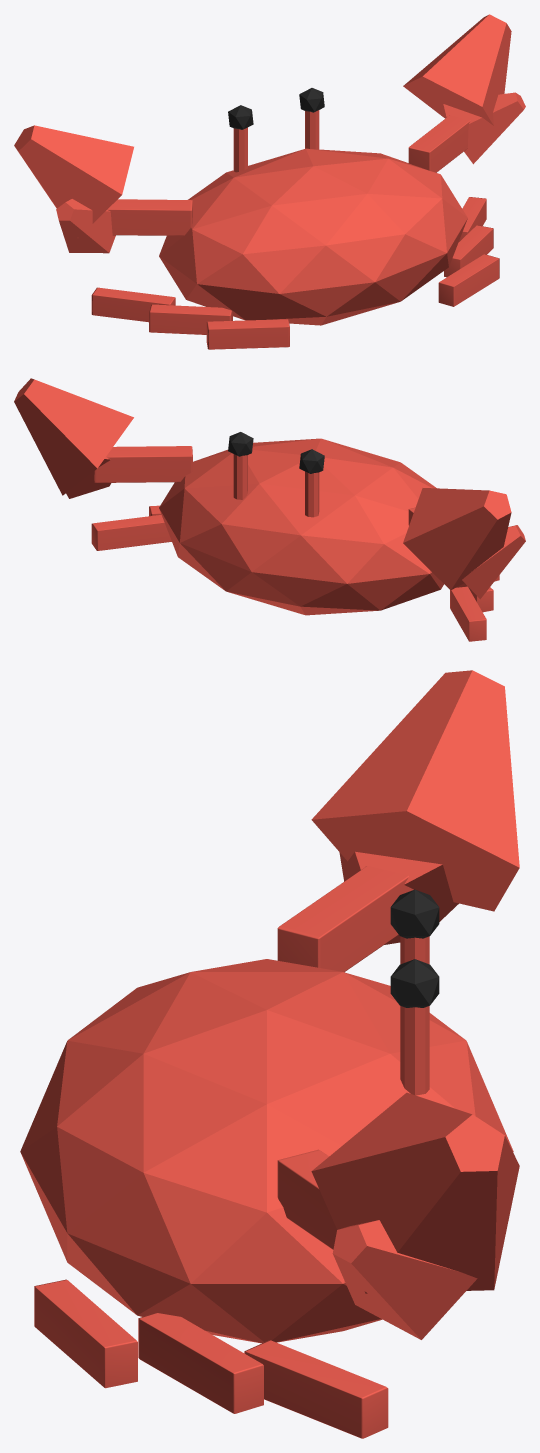
The model's file is crab.glb.
3 renders of one model, top to bottom at view 1: azimuth 30°, elevation 25°; view 2: azimuth 150°, elevation 25°; view 3: azimuth 270°, elevation 25°, orthographic. The views are drawn at different scales.
Visible parts, largest first — view 1: wide red crab body, large open claw, large open claw.001, crab upper arm, segmented crab leg, small claw tine, crab upper arm.001, small claw tine.001, segmented crab leg.001, segmented crab leg.002, segmented crab leg.003, segmented crab leg.004 (+5 smaller); view 2: wide red crab body, large open claw, large open claw.001, crab upper arm.001, segmented crab leg.005, small claw tine, segmented crab leg.002, left eye stalk, right eye stalk, small claw tine.001, eye, eye.001 (+1 smaller); view 3: wide red crab body, large open claw, large open claw.001, small claw tine.001, crab upper arm, segmented crab leg.005, segmented crab leg.004, segmented crab leg.003, crab upper arm.001, small claw tine, right eye stalk, eye (+1 smaller).
Part boxes in pixels (x1,y1,x2,y2): wide red crab body: (159,148,467,325); large open claw: (14,125,133,237); large open claw.001: (403,14,511,125); crab upper arm: (107,199,192,235); segmented crab leg: (206,319,289,349); small claw tine: (56,199,115,253); crab upper arm.001: (408,115,470,172); small claw tine.001: (443,92,525,164); segmented crab leg.001: (149,304,232,334); segmented crab leg.002: (91,287,175,322); segmented crab leg.003: (438,254,499,306); segmented crab leg.004: (444,225,493,277); wide red crab body: (159,438,443,615); large open claw: (403,488,511,590); large open claw.001: (14,378,133,495); crab upper arm.001: (94,446,192,482); segmented crab leg.005: (91,515,171,550); small claw tine: (462,525,525,599); segmented crab leg.002: (450,586,486,641); left eye stalk: (305,471,319,517); right eye stalk: (233,454,247,499); small claw tine.001: (66,457,111,498); eye: (299,449,324,473); eye.001: (228,432,253,456); wide red crab body: (20,959,513,1343); large open claw: (311,670,519,911); large open claw.001: (311,1092,519,1293); small claw tine.001: (332,1220,477,1339); crab upper arm: (277,866,413,972); segmented crab leg.005: (244,1340,388,1438); segmented crab leg.004: (138,1313,263,1413); segmented crab leg.003: (34,1279,137,1388); crab upper arm.001: (277,1149,336,1249); small claw tine: (339,851,458,944); right eye stalk: (400,1006,429,1095); eye: (390,889,439,938).
Bounding box in the file's own units: 1.38 × 0.5378 × 0.6074.
